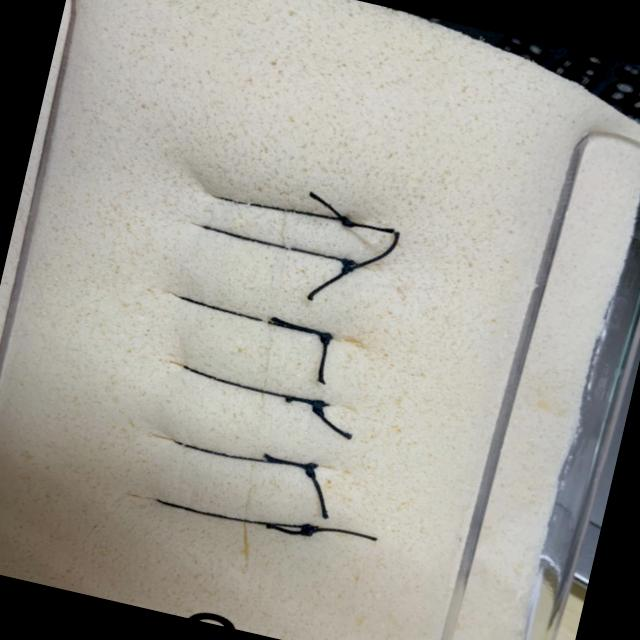knot: (341, 259, 356, 274), (299, 524, 315, 536), (312, 401, 324, 416), (305, 464, 317, 478), (339, 216, 353, 227), (320, 333, 332, 345)
leftover: (347, 228, 401, 268), (304, 261, 353, 302), (313, 403, 354, 441), (267, 314, 329, 339), (305, 189, 350, 223), (306, 525, 380, 543), (307, 465, 329, 521), (259, 454, 314, 470), (341, 218, 397, 233), (317, 333, 329, 387), (262, 523, 314, 535), (281, 396, 322, 409)
stitch: (178, 362, 332, 407), (174, 294, 329, 338), (198, 223, 356, 266), (152, 497, 314, 531), (170, 438, 314, 470), (216, 196, 351, 224)
wound: (241, 180, 292, 571)
